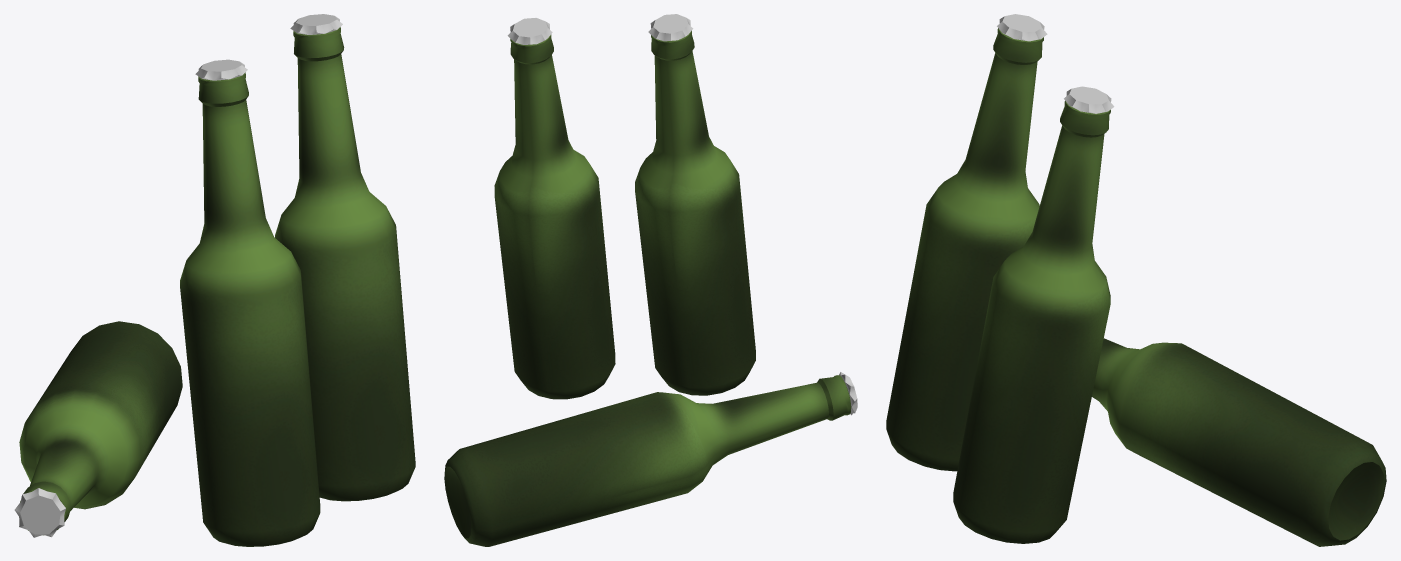
File: soju10.obj
The picture shows the model from 3 angles, left to right: view 1: azimuth 30°, elevation 25°; view 2: azimuth 150°, elevation 25°; view 3: azimuth 270°, elevation 25°; orthographic projection. The views are drawn at different scales.
Bounding box in the file's own units: 6.48 × 7.95 × 7.29.
